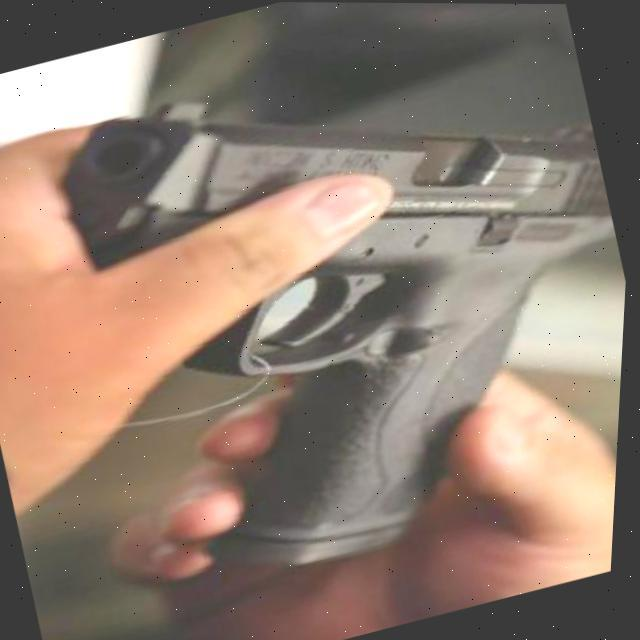gun: (31, 0, 640, 612)
